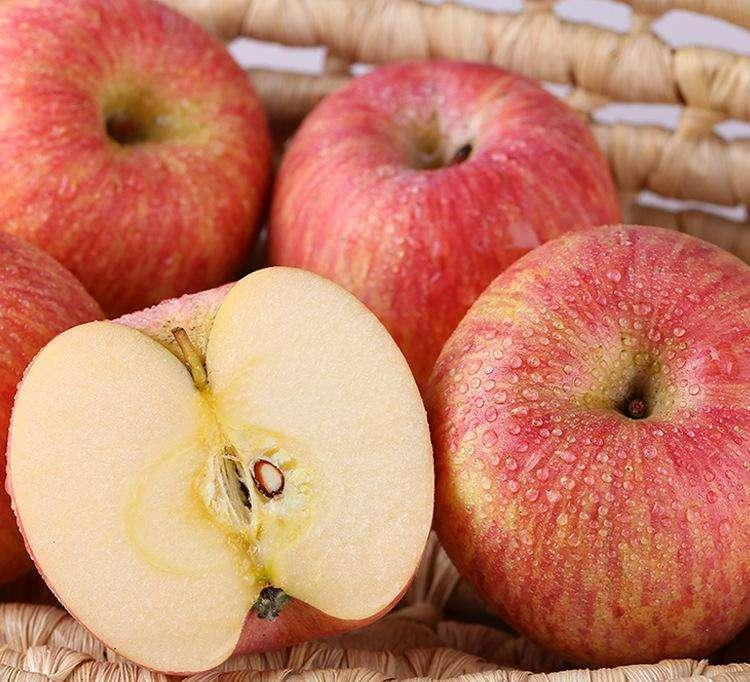apple: (417, 229, 750, 664), (266, 63, 614, 391), (2, 2, 270, 320)
